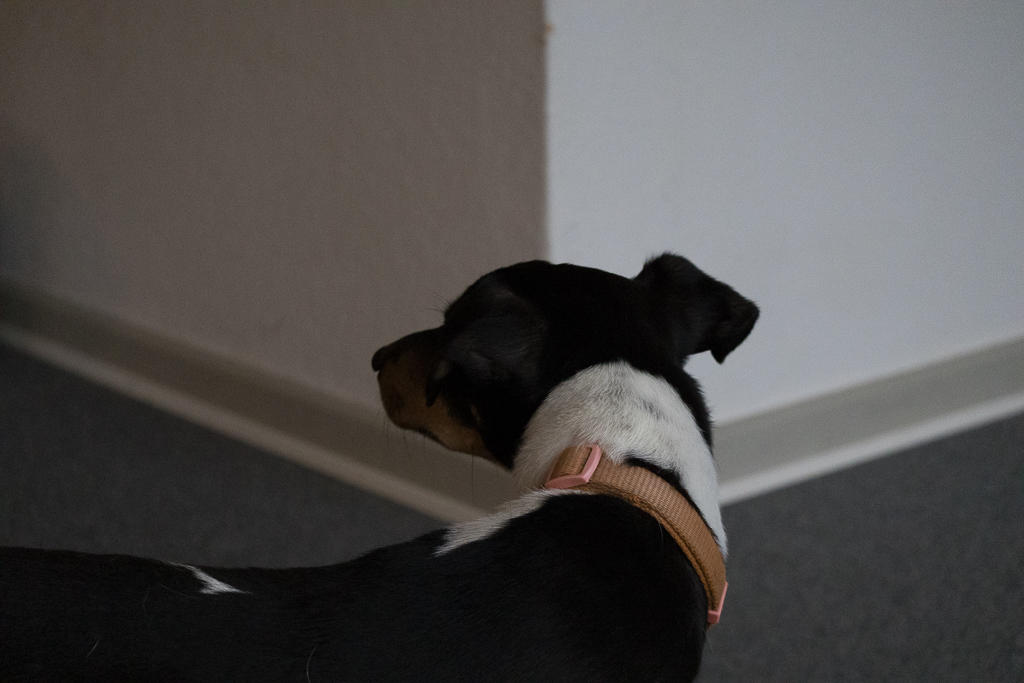Dog: (0, 244, 777, 683)
